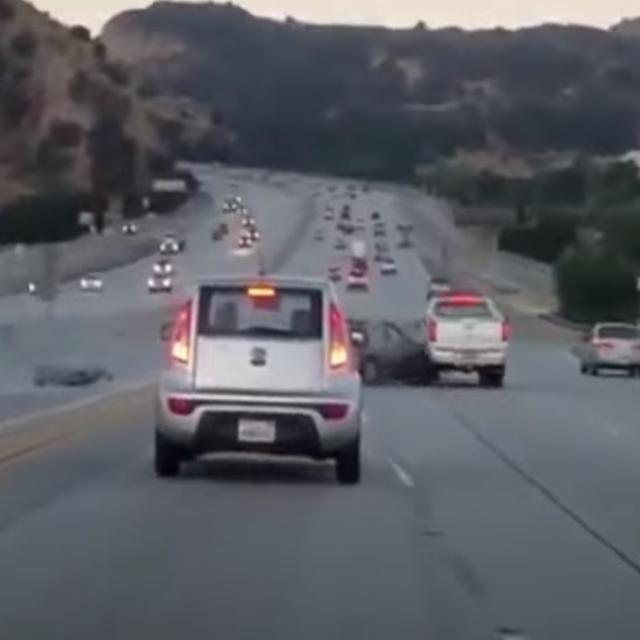accident: (355, 291, 505, 385)
non-accident: (150, 260, 170, 296), (240, 225, 256, 252)
